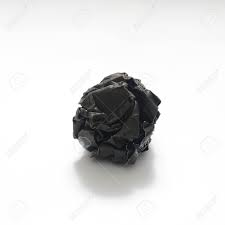crumpled paper: (72, 71, 161, 161)
